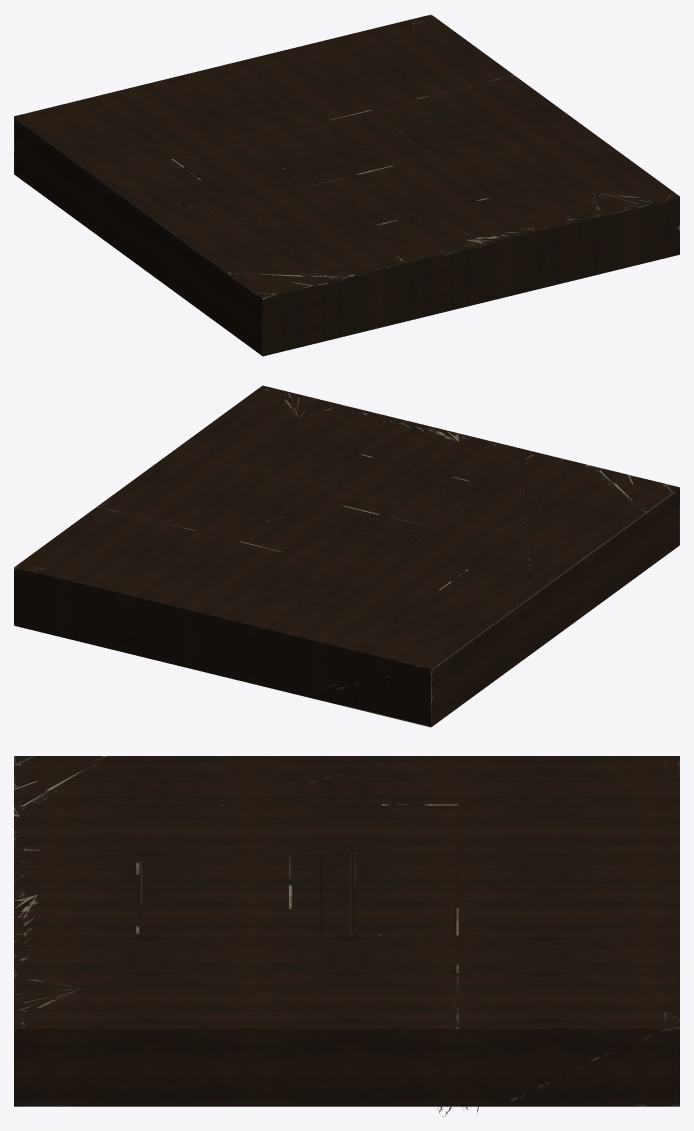
File: raw_model.glb
3 views of the same model, one above another, from view 1: azimuth 30°, elevation 25°; view 2: azimuth 150°, elevation 25°; view 3: azimuth 270°, elevation 25° (orthographic). The views are drawn at different scales.
Visible parts, largest first — view 1: raw_model.051; view 2: raw_model.051; view 3: raw_model.051.
Boxes of the visible parts, left/top/right/bottom form: raw_model.051: left=14, top=14, right=679, bottom=356; raw_model.051: left=14, top=385, right=679, bottom=727; raw_model.051: left=14, top=756, right=679, bottom=1116.
Bounding box in the file's own units: 2.61 × 0.5277 × 2.7.
Materials: 1 (1 with a texture image).
